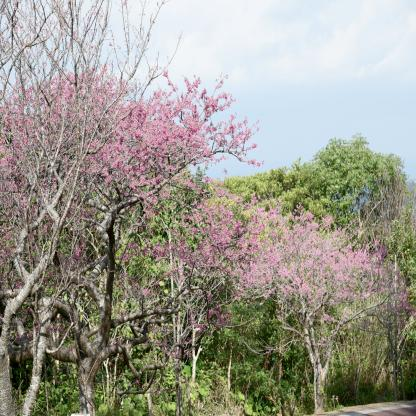KanhiSakura: (0, 0, 266, 415), (243, 191, 416, 363)
